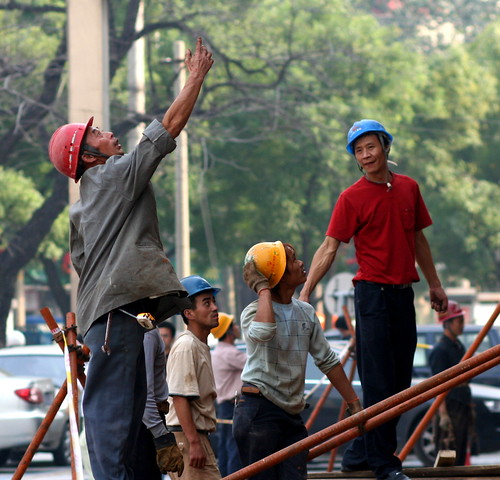person hardhat: (45, 50, 210, 480), (323, 117, 432, 475), (242, 240, 346, 480), (163, 273, 235, 476), (429, 296, 477, 467), (206, 311, 252, 472)
